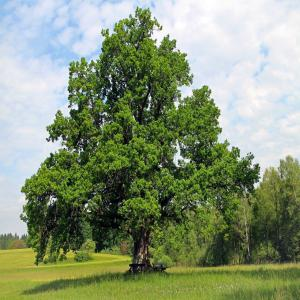Tree: (20, 7, 260, 264)
